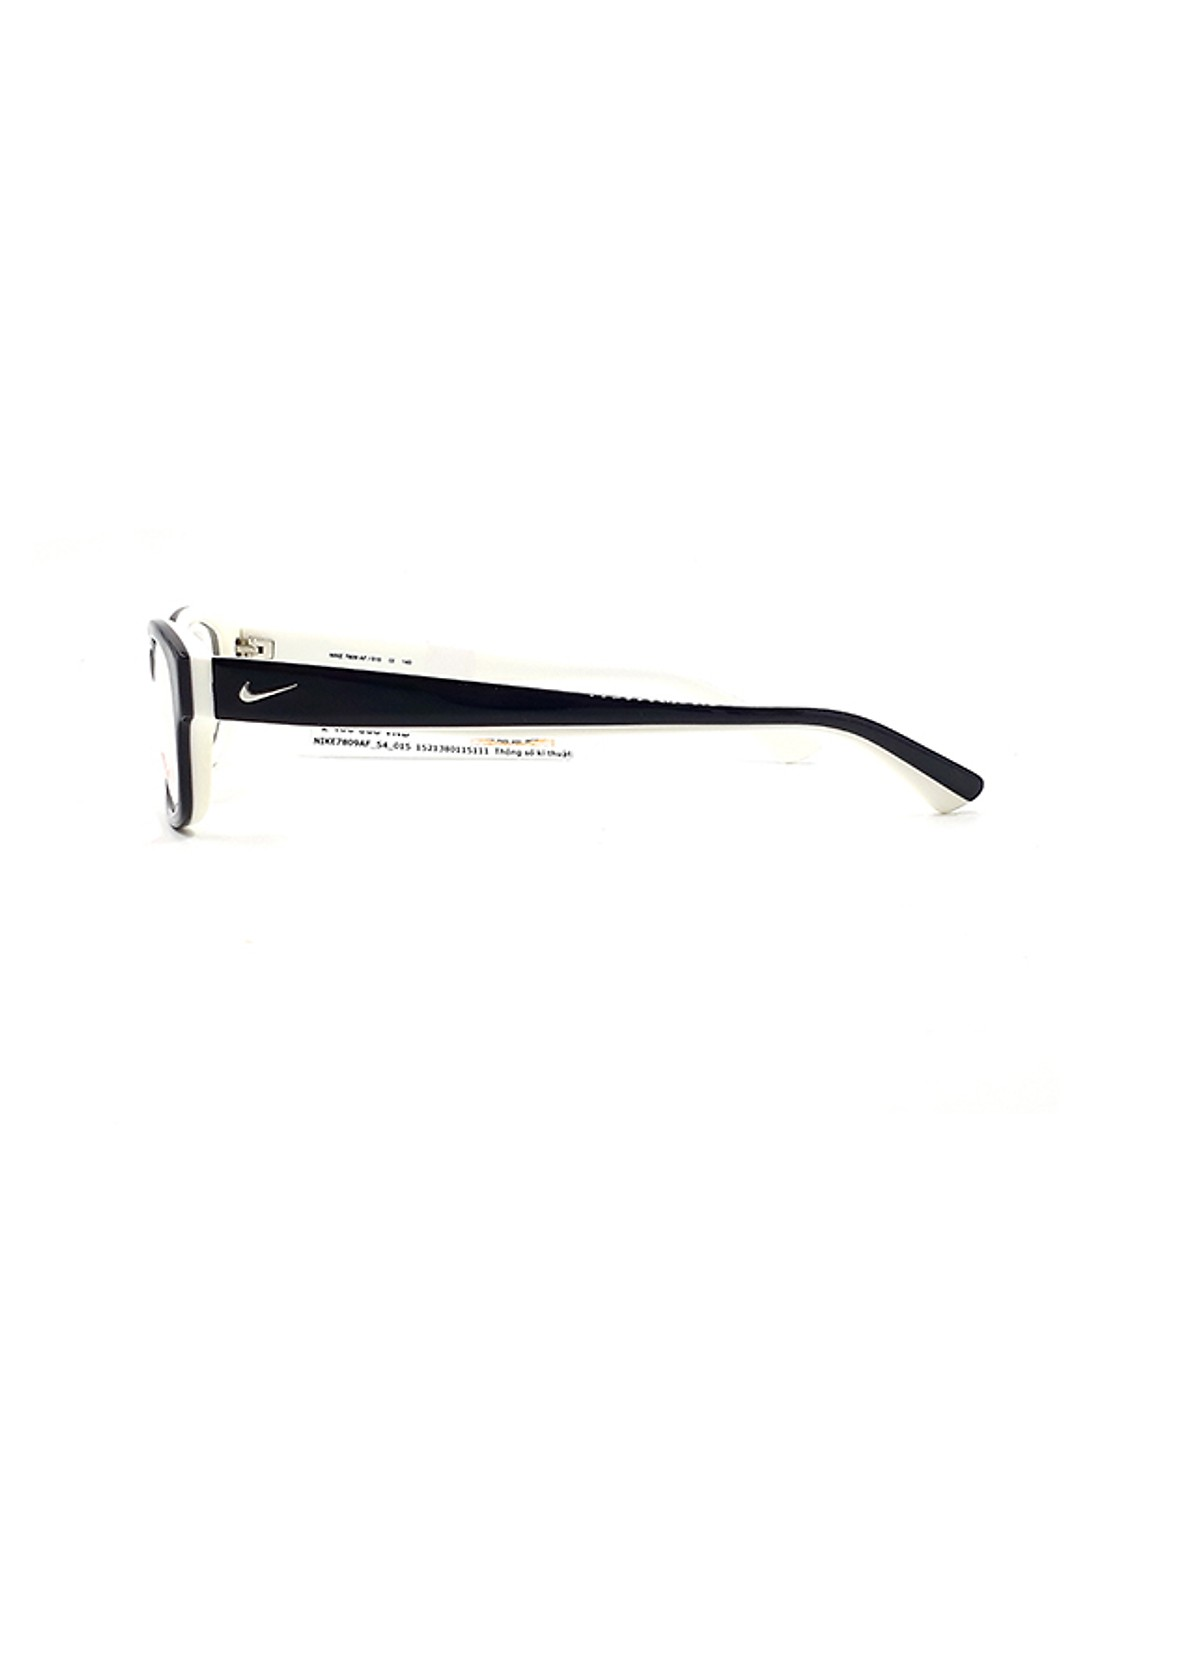Nike: (177, 623, 377, 767)
